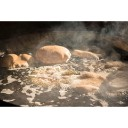poori: (35, 46, 74, 65), (1, 50, 33, 71)
